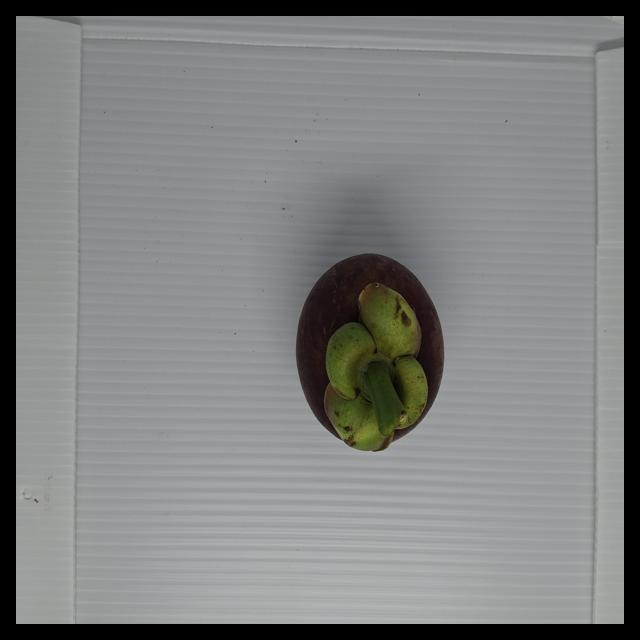mangosteen: (290, 246, 463, 470)
